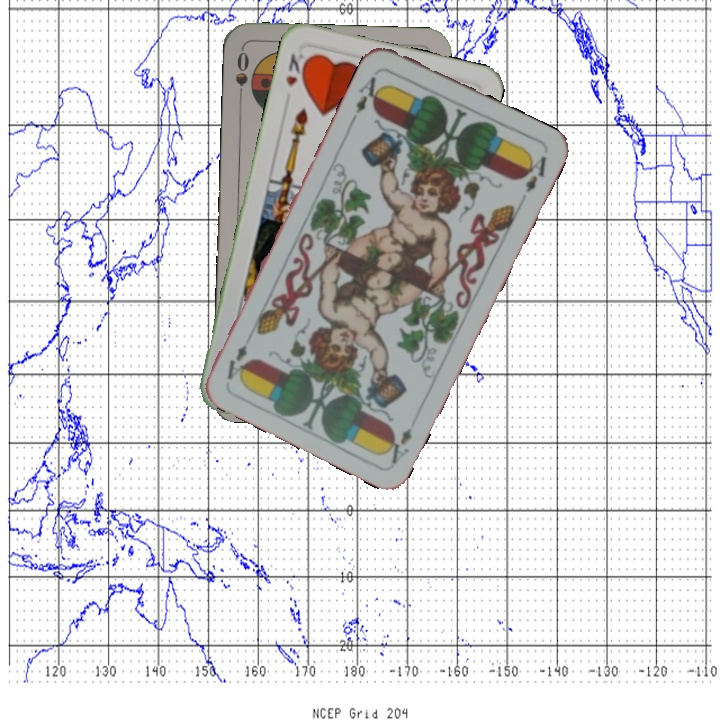EA: (348, 72, 387, 123), (381, 424, 415, 467)
HK: (281, 49, 312, 89)
SO: (231, 47, 252, 106)
